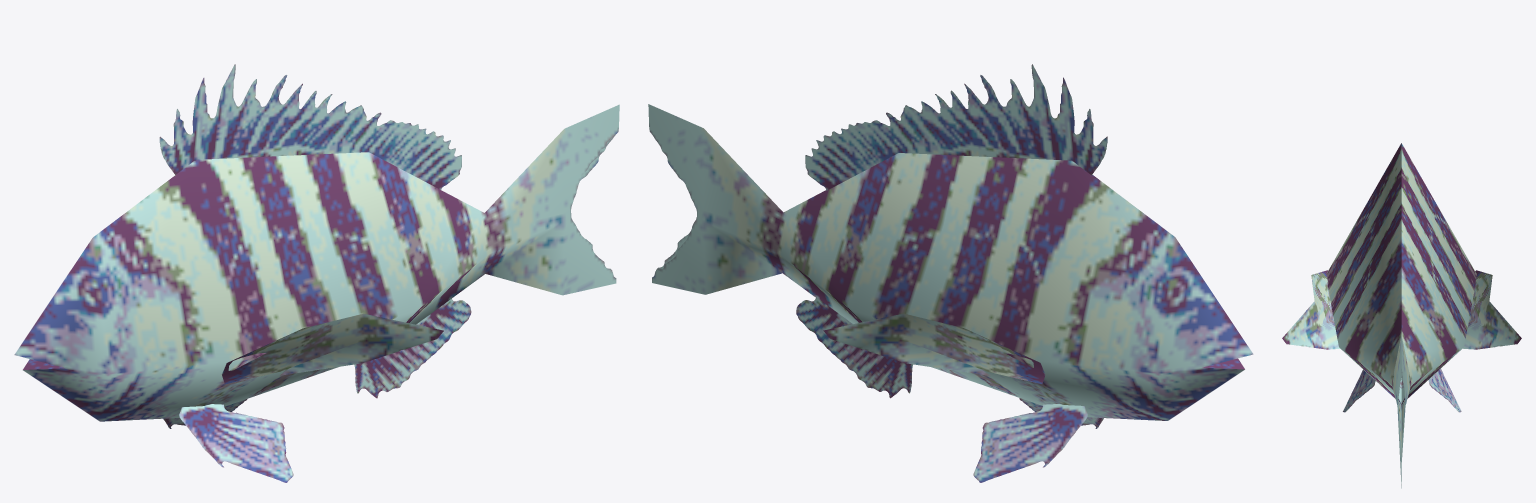
Rendered from fish test.fbx.
3 renders of one model, left to right at view 1: azimuth 30°, elevation 25°; view 2: azimuth 150°, elevation 25°; view 3: azimuth 270°, elevation 25°, orthographic. The views are drawn at different scales.
Parts seen in each view (by area): view 1: pPlane1, pPlane4, pPlane5, pPlane3, pPlane2; view 2: pPlane1, pPlane4, pPlane5, pPlane7, pPlane2; view 3: pPlane1, pPlane5, pPlane7, pPlane3.
Boxes of the visible parts, box(x1,y1,x2,y2) form: pPlane1: box(14, 104, 619, 421); pPlane4: box(159, 64, 461, 189); pPlane5: box(222, 313, 443, 384); pPlane3: box(179, 404, 293, 482); pPlane2: box(354, 298, 471, 398); pPlane1: box(648, 104, 1253, 420); pPlane4: box(805, 64, 1107, 190); pPlane5: box(823, 313, 1045, 383); pPlane7: box(973, 404, 1087, 482); pPlane2: box(796, 297, 913, 398); pPlane1: box(1326, 143, 1476, 488); pPlane5: box(1282, 270, 1521, 349); pPlane7: box(1428, 369, 1461, 412); pPlane3: box(1343, 369, 1375, 412).
Size of the model in its own units: 5.54 by 4.12 by 2.37.
